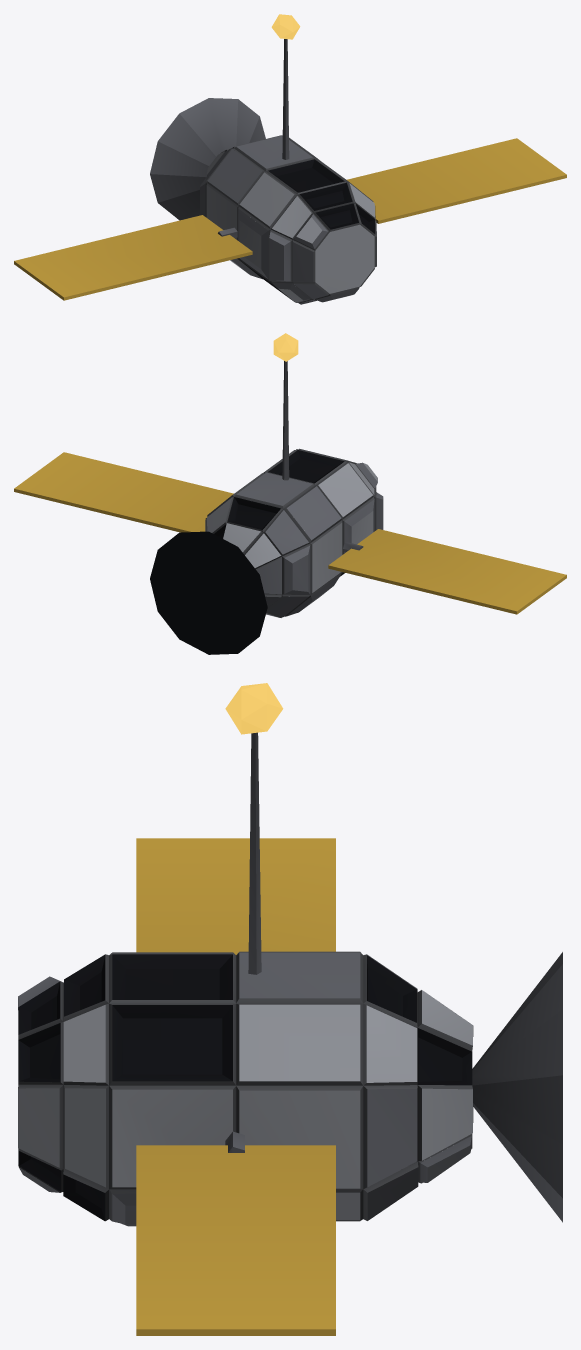
The model's file is buoy.glb.
3 views of the same model, one above another, from view 1: azimuth 30°, elevation 25°; view 2: azimuth 150°, elevation 25°; view 3: azimuth 270°, elevation 25° (orthographic). The views are drawn at different scales.
Visible parts, largest first — view 1: buoy; view 2: buoy; view 3: buoy.
Part boxes in pixels (x1=…): buoy: x1=14, y1=14, x2=566, y2=304; buoy: x1=14, y1=333, x2=566, y2=654; buoy: x1=18, y1=683, x2=562, y2=1335.
Size of the model in its own units: 25.58 by 12.74 by 12.
